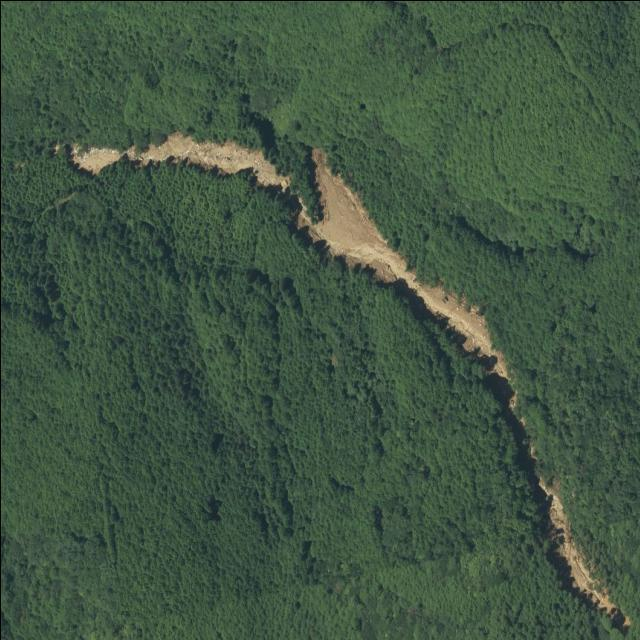landslide: (296, 147, 510, 381), (538, 477, 630, 628), (68, 130, 289, 191)
